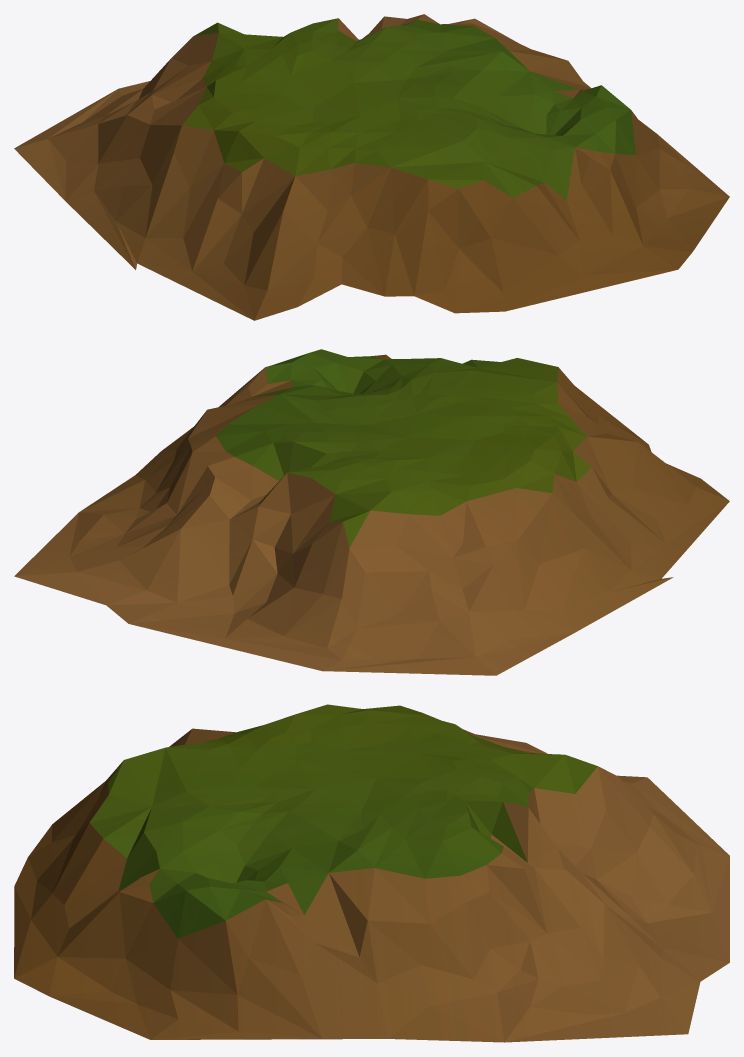
File: Ground_base.fbx
3 renders of one model, top to bottom at view 1: azimuth 30°, elevation 25°; view 2: azimuth 150°, elevation 25°; view 3: azimuth 270°, elevation 25°, orthographic. The views are drawn at different scales.
Visible parts, largest first — view 1: Landscape; view 2: Landscape; view 3: Landscape.
Boxes of the visible parts, x1,y1,x2,y2 form: Landscape: (14,14,729,320); Landscape: (14,349,729,675); Landscape: (14,704,729,1042).
Bounding box in the file's own units: 1104 × 226 × 1186.
